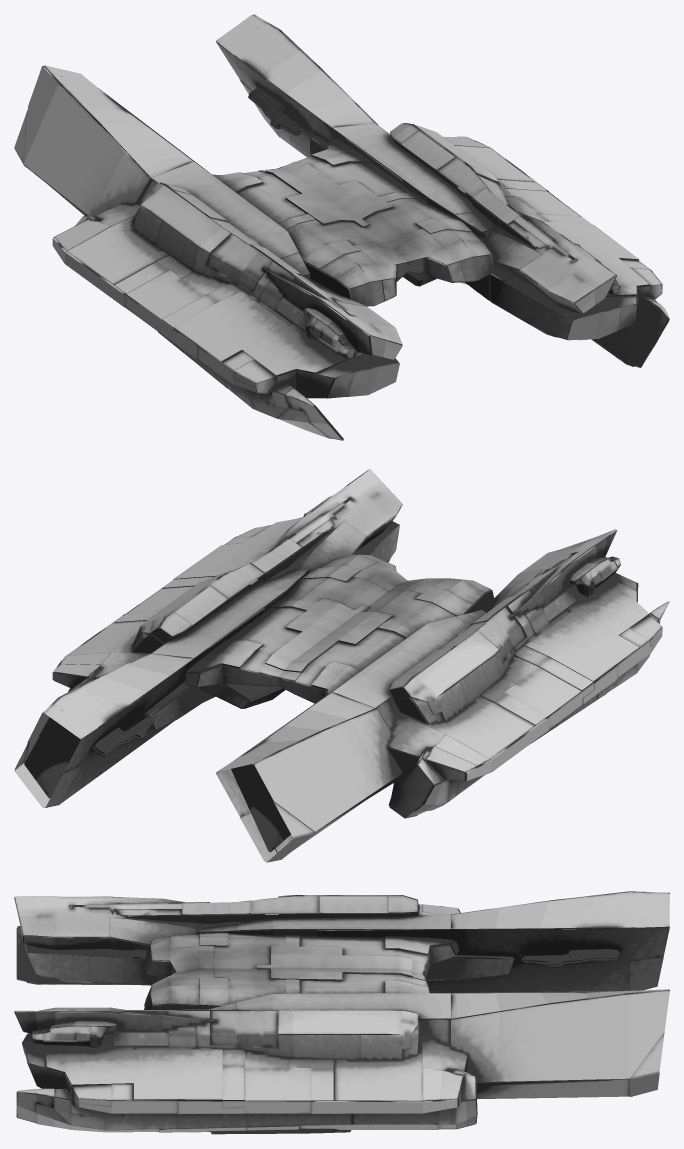
The model's file is Cruiser001.fbx.
3 renders of one model, top to bottom at view 1: azimuth 30°, elevation 25°; view 2: azimuth 150°, elevation 25°; view 3: azimuth 270°, elevation 25°, orthographic. The views are drawn at different scales.
Parts seen in each view (by area): view 1: Cruiser001; view 2: Cruiser001; view 3: Cruiser001.
Boxes of the visible parts, x1=… form: Cruiser001: x1=14, y1=14, x2=669, y2=440; Cruiser001: x1=14, y1=469, x2=669, y2=862; Cruiser001: x1=14, y1=891, x2=669, y2=1134.
Bounding box in the file's own units: 43.77 × 13.17 × 61.32.
